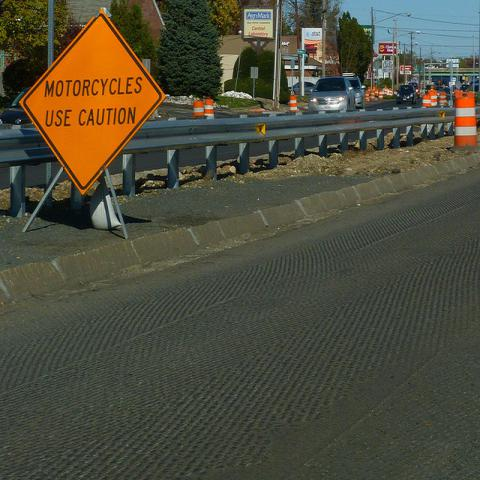car: (308, 75, 357, 113), (0, 87, 36, 125), (344, 74, 365, 108), (396, 83, 415, 109), (470, 80, 479, 92), (460, 84, 472, 92), (453, 85, 458, 92)
